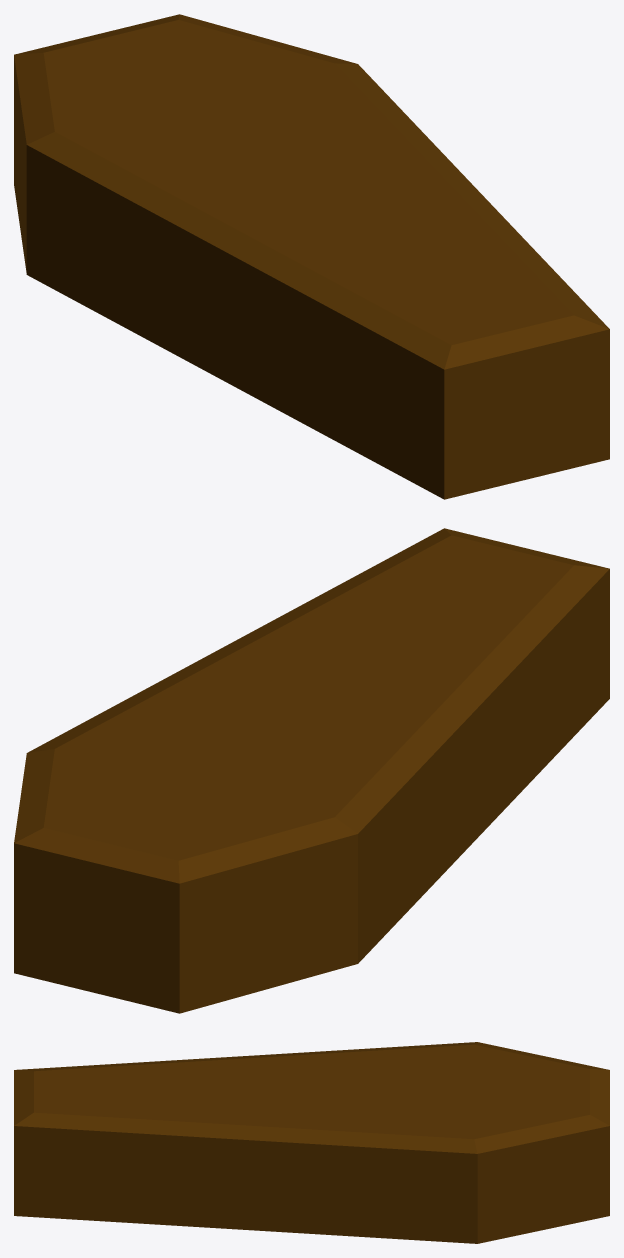
The model's file is coffin.fbx.
3 renders of one model, top to bottom at view 1: azimuth 30°, elevation 25°; view 2: azimuth 150°, elevation 25°; view 3: azimuth 270°, elevation 25°, orthographic. The views are drawn at different scales.
Parts seen in each view (by area): view 1: Cube; view 2: Cube; view 3: Cube.
Part boxes in pixels (box(x1,y1,x2,y2)): Cube: box(14, 14, 609, 499); Cube: box(14, 528, 609, 1013); Cube: box(14, 1042, 609, 1243).
Size of the model in its own units: 400 by 160 by 900.
